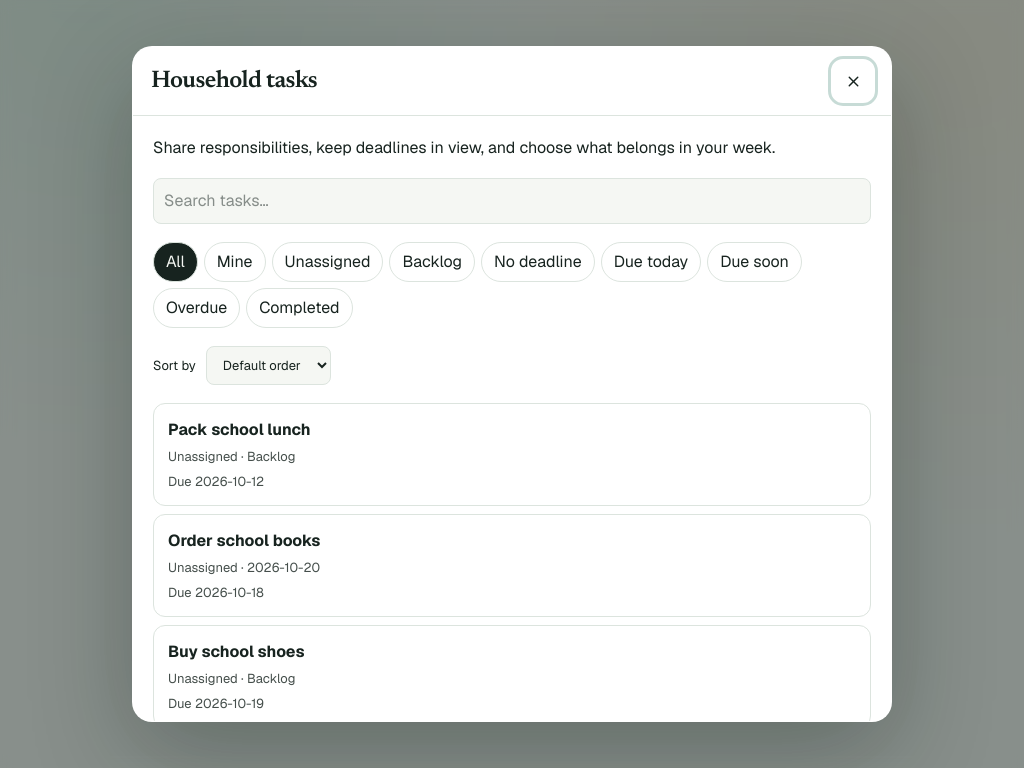
task workspace search › shows upcoming deadlines in both scheduled and backlog tasks without mutating them
The width and height of the screenshot is (1024, 768).
Check: the button "Pack school lunch Unassigned · Backlog Due 2026-10-12" is shown, box [168,418,856,491]
Click the button "Due soon": coordinates (754, 262) [707,242,802,282]
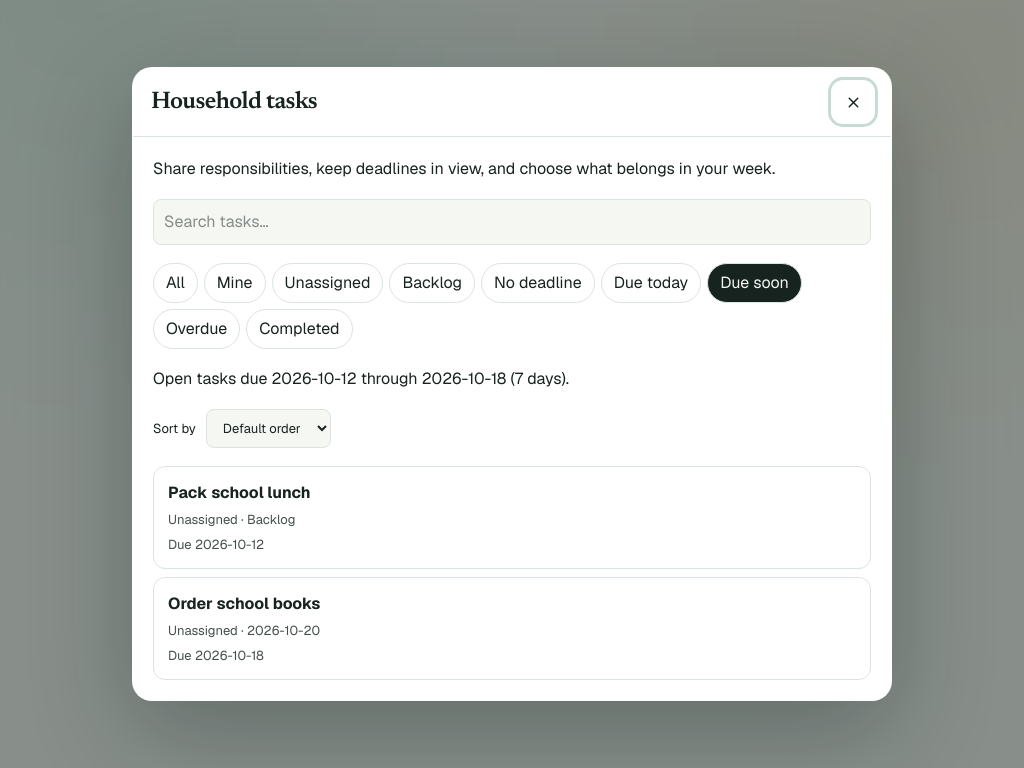
Check: the button "Pack school lunch Unassigned · Backlog Due 2026-10-12" is shown, box [168,481,856,554]
Check: the text "Open tasks due 2026-10-12 through 2026-10-18 (7 days)." is shown, box [153,368,569,389]
Check: the button "Buy school shoes" is gone
In the search field labelled "Search tasks": coordinates (512, 222) [153,199,871,245], type "  LUNCH  "
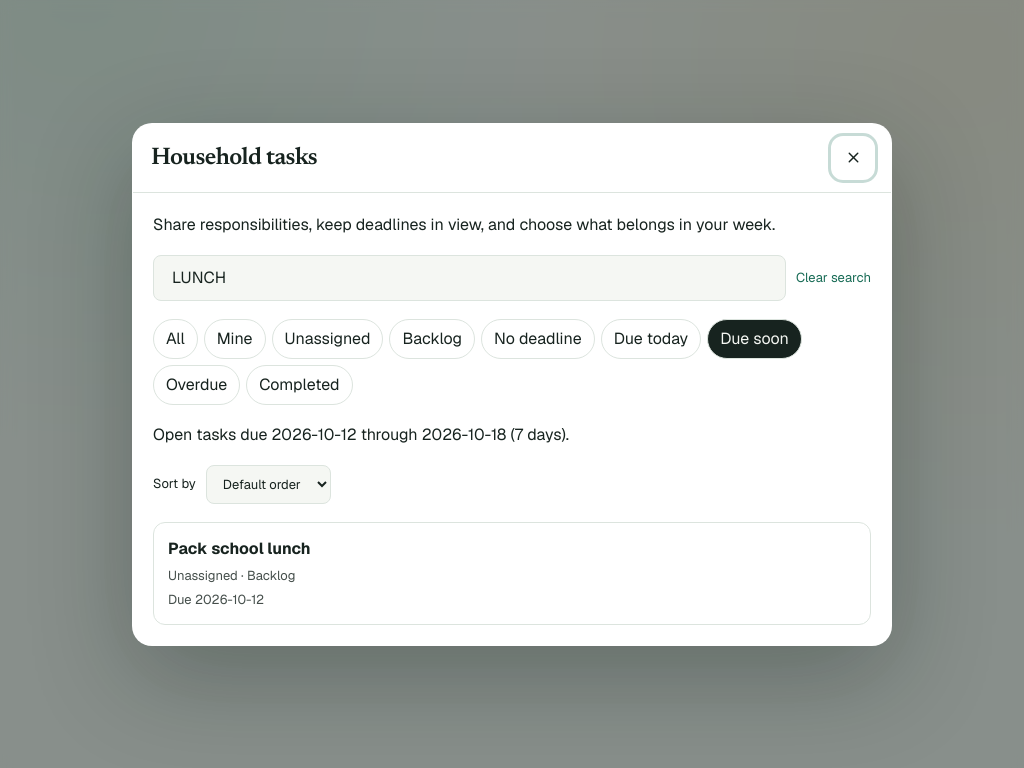
Check: the button "Pack school lunch Unassigned · Backlog Due 2026-10-12" is shown, box [168,536,856,610]
Check: the button "Order school books" is gone
Replace the text in the search field named "Search tasks" with "missing": coordinates (469, 278) [153,254,786,300]
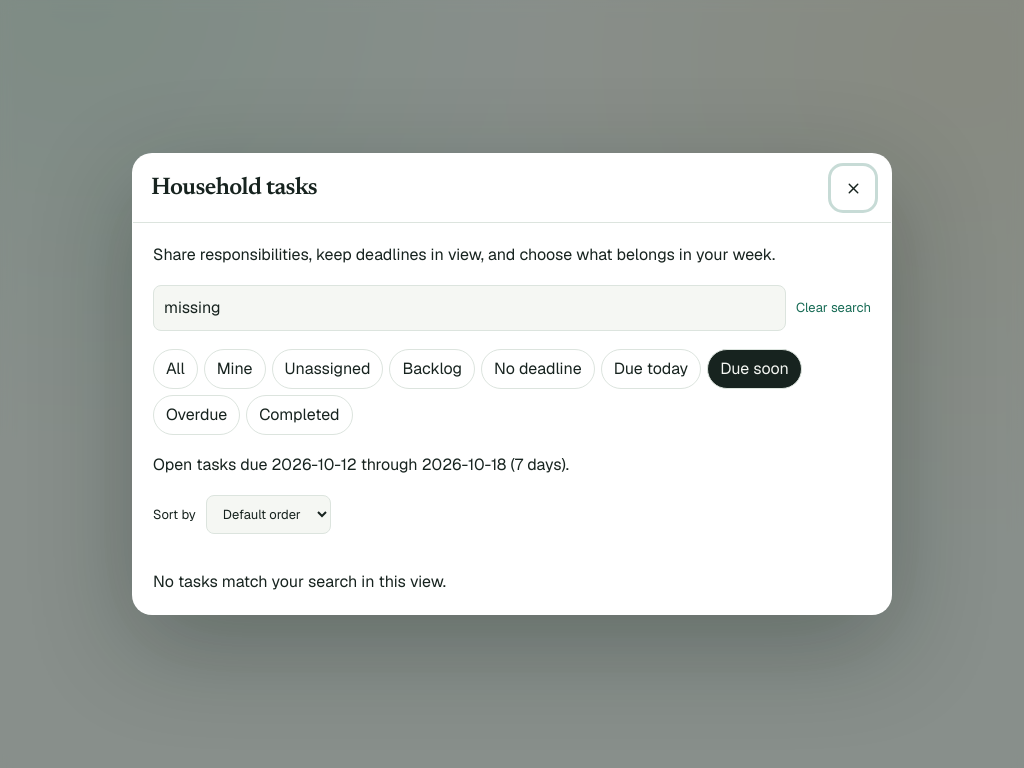
Check: the message reads "No tasks match your search in this view.", box [153,571,446,592]
Click the button "Clear search": coordinates (833, 308) [796,298,871,318]
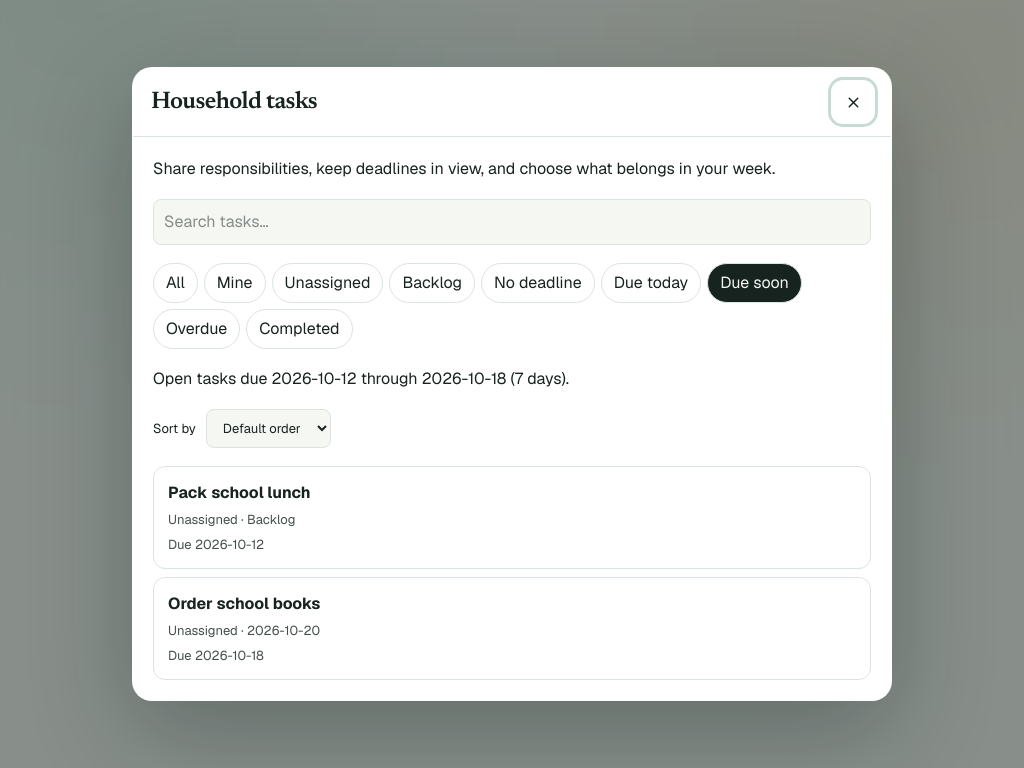
Check: the button "Order school books Unassigned · 2026-10-20 Due 2026-10-18" is shown, box [168,592,856,665]
Click the button "Overdue": coordinates (197, 329) [153,309,240,349]
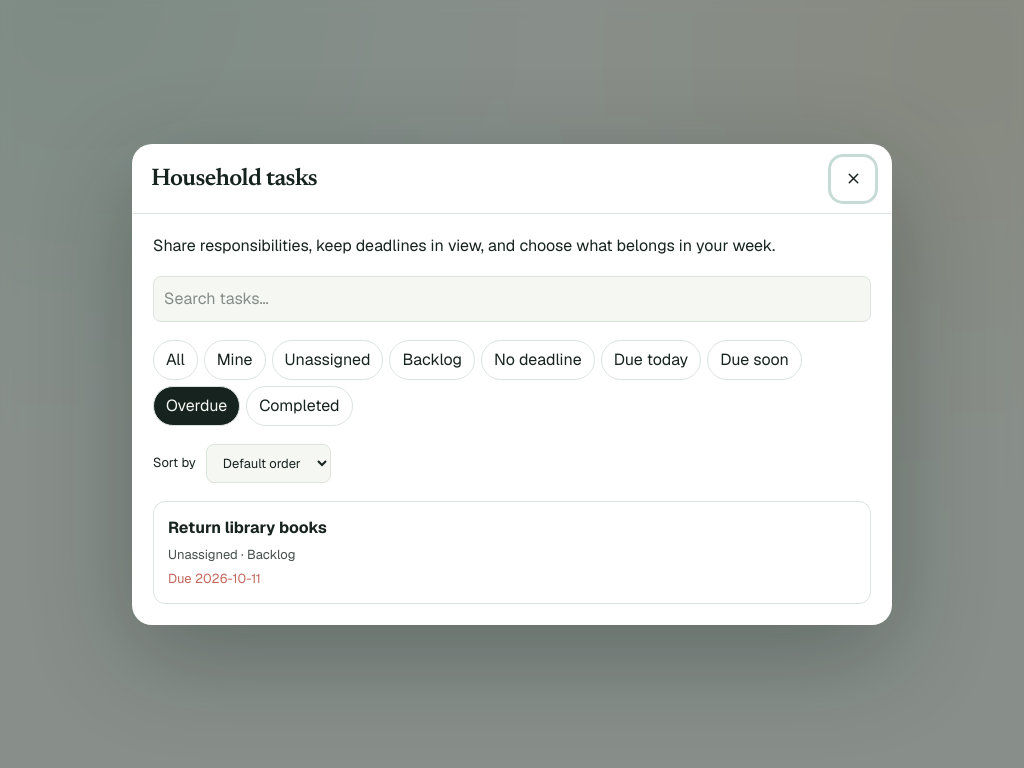
Check: the button "Return library books Unassigned · Backlog Due 2026-10-11" is shown, box [168,516,856,588]
